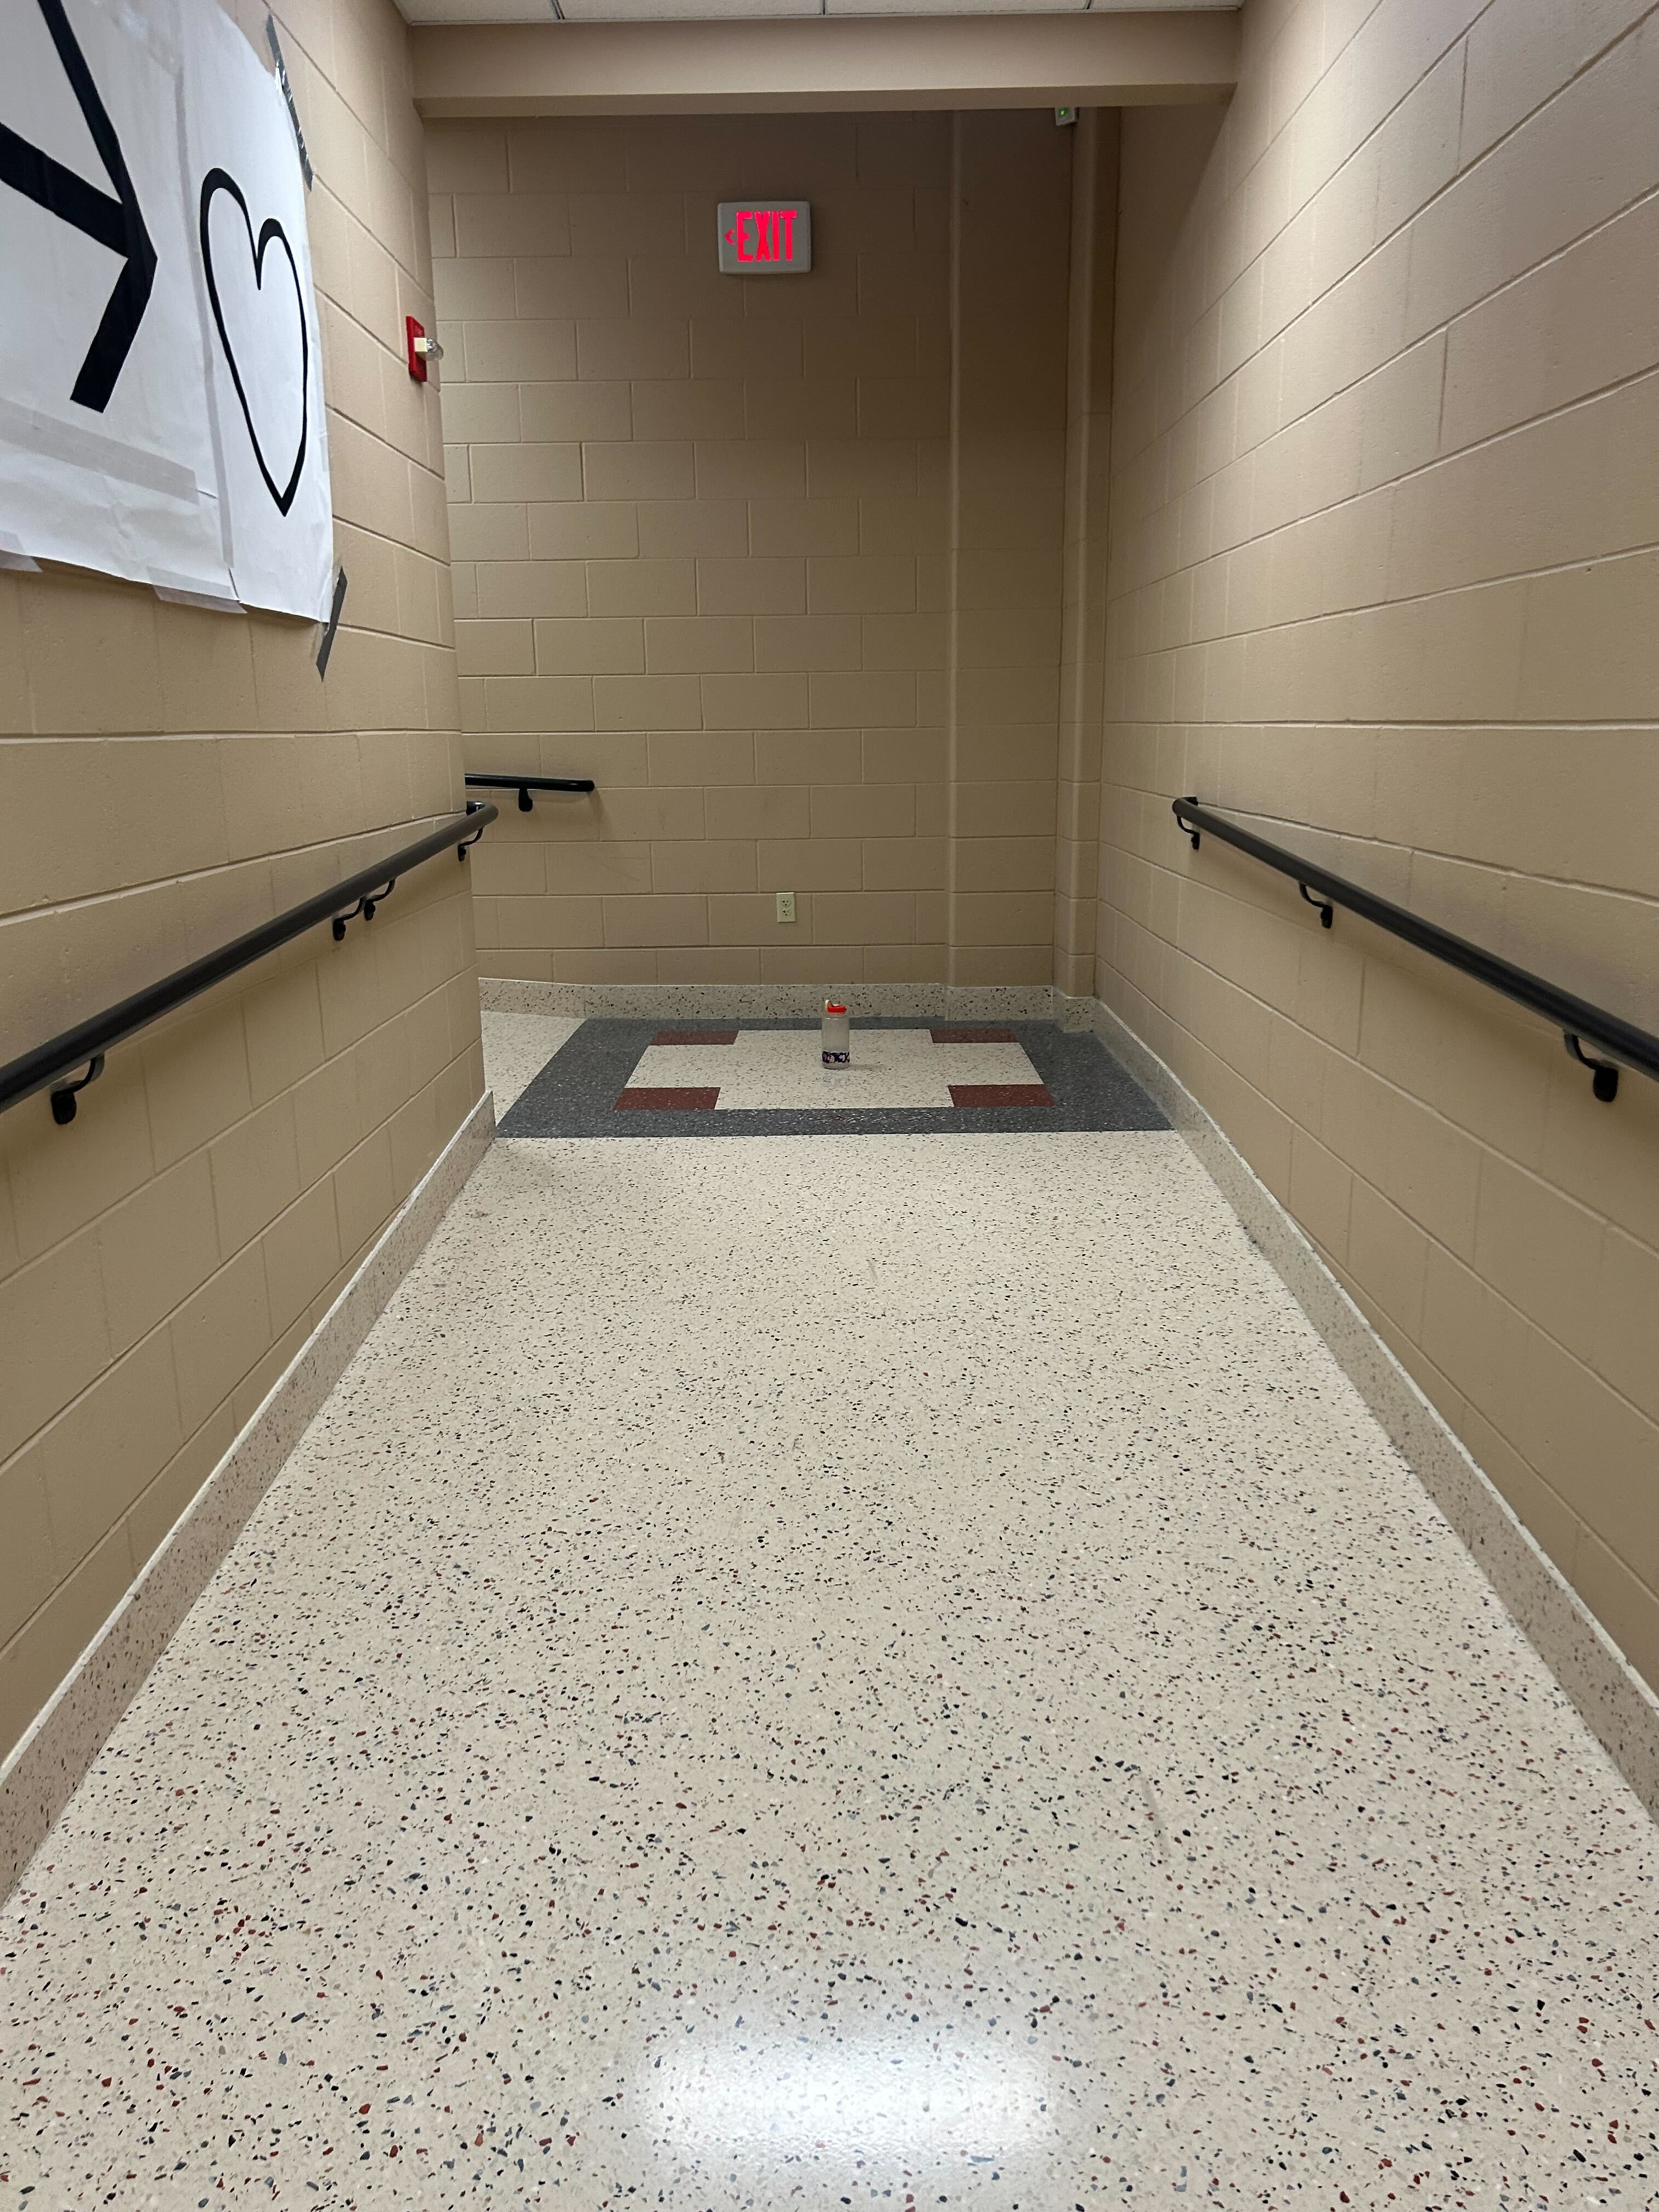bottle: (817, 986, 852, 1076)
